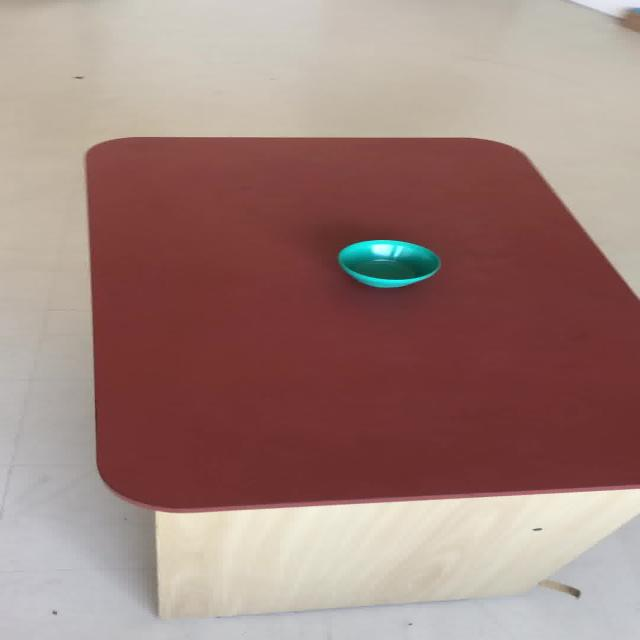bowl: (336, 238, 440, 288)
